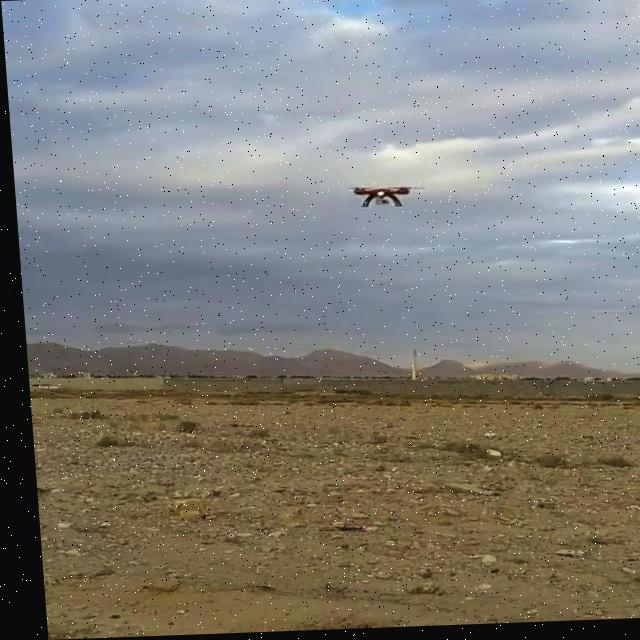drone: (340, 183, 420, 213)
